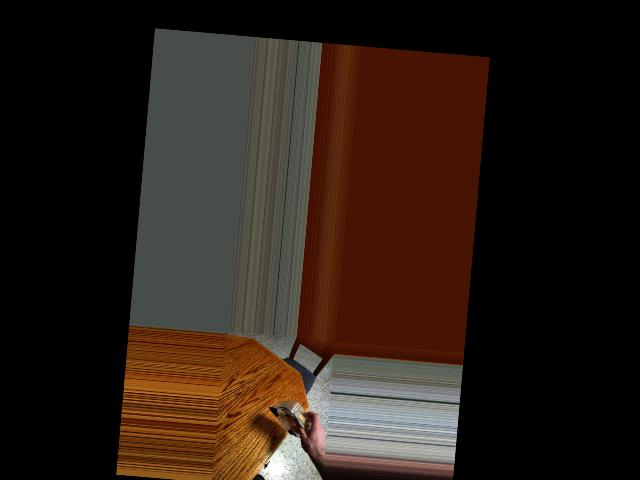cheese: (268, 389, 316, 452)
